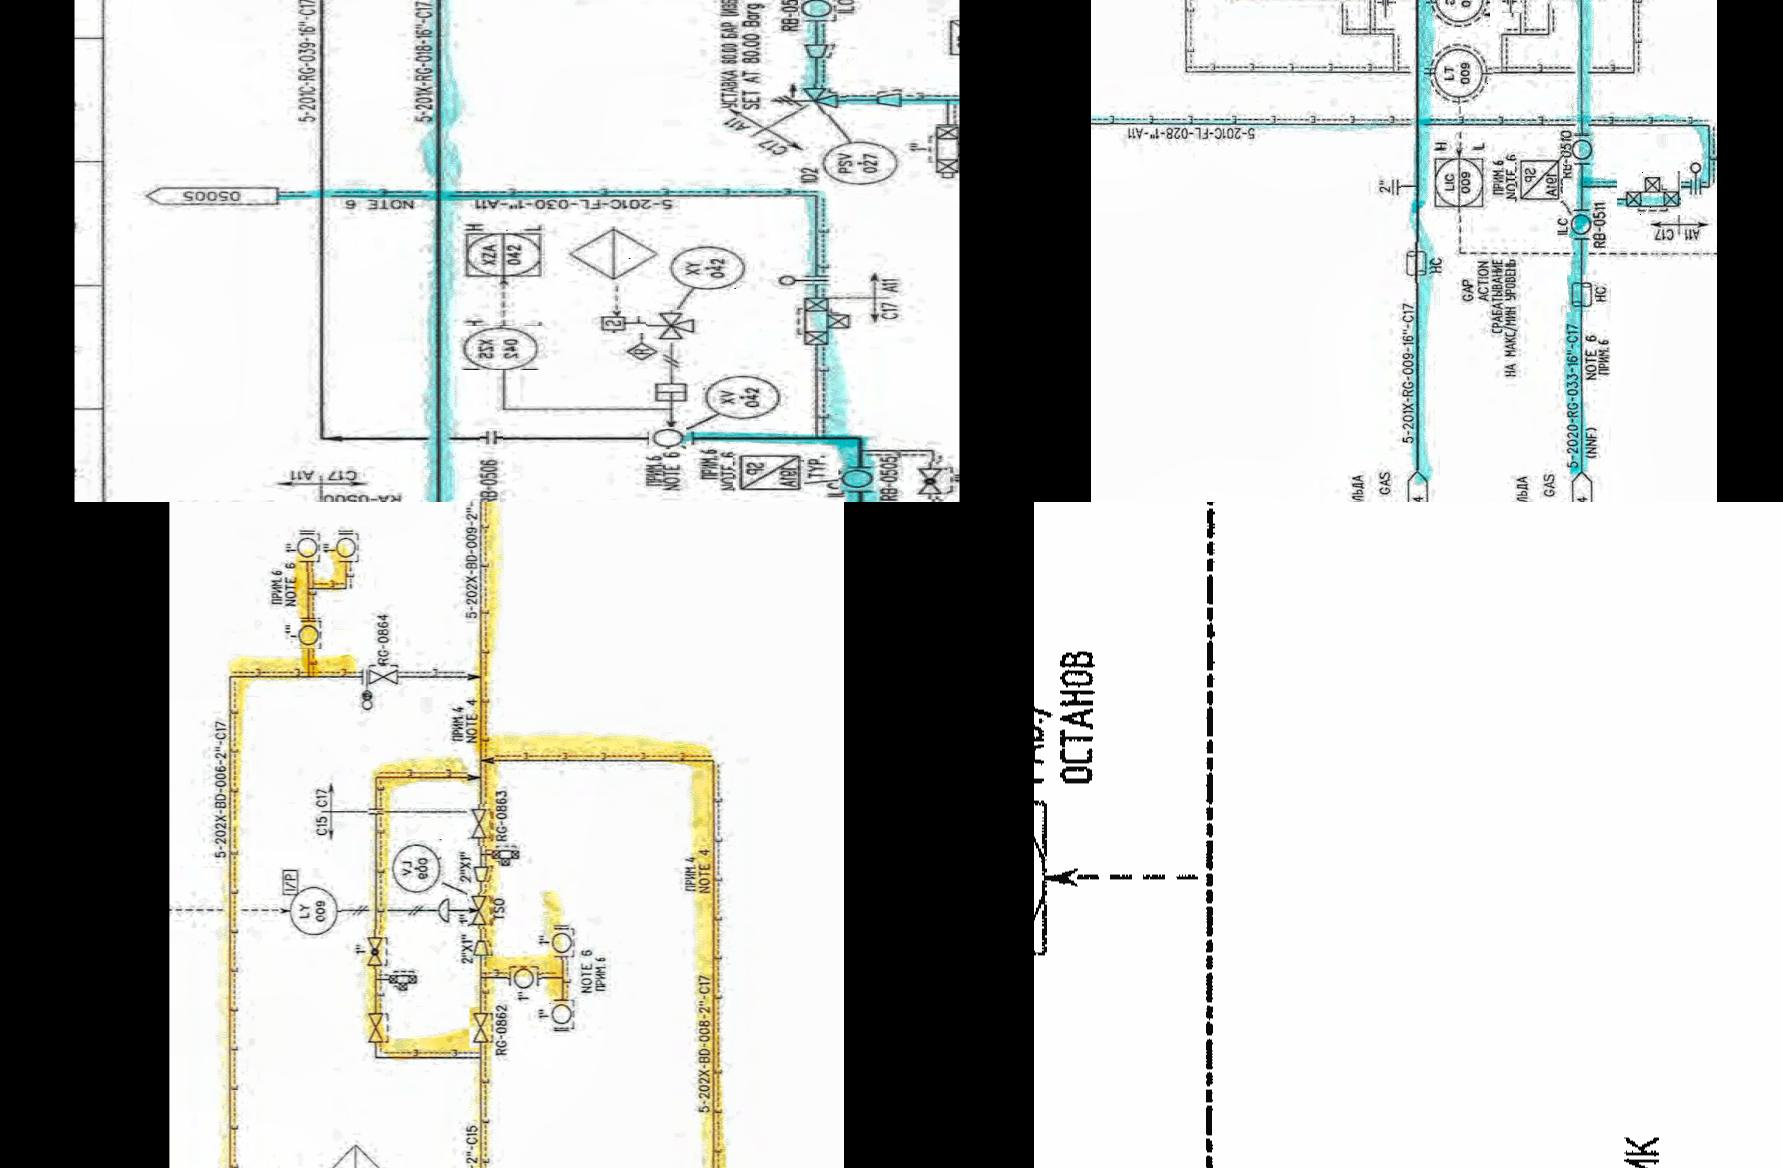2 WAY VALVE: (787, 295, 858, 351), (1617, 169, 1681, 214)
3 WAY GENERAL VALVE: (645, 308, 704, 340)
ANGLE RELIEF VALVE: (762, 82, 847, 113)
BLIND SPADE OPEN: (1683, 154, 1707, 201), (774, 270, 833, 287)
CONCENTRIC REDUCER: (798, 38, 834, 60), (873, 87, 908, 108), (469, 933, 494, 959), (469, 855, 490, 884)
DCS ACCESSIBLE: (457, 227, 551, 280), (1427, 147, 1490, 212)
DUPLEX RECEPTACLE: (1402, 240, 1432, 282), (1567, 272, 1597, 310)
END CAP: (430, 894, 456, 929)
END FLANGED: (481, 428, 506, 447), (1392, 172, 1402, 198), (1503, 0, 1524, 10), (1376, 0, 1396, 7)
FIELD INSTRUMENT: (1425, 39, 1494, 104), (666, 240, 747, 292), (817, 138, 902, 185), (282, 880, 341, 945), (455, 325, 542, 369), (704, 372, 783, 420), (392, 836, 443, 901), (292, 524, 327, 571), (1426, 0, 1490, 25), (550, 918, 581, 958), (327, 528, 361, 561), (291, 618, 327, 648), (508, 958, 542, 989), (1564, 132, 1595, 163), (547, 997, 577, 1030), (839, 467, 878, 490), (649, 426, 688, 448), (1567, 209, 1597, 237), (798, 0, 837, 17)
GATE VALVE: (361, 1005, 390, 1045), (469, 1005, 494, 1047), (468, 803, 493, 845), (468, 889, 491, 927), (368, 664, 401, 686)
GLOBE VALVE: (918, 459, 950, 498), (362, 928, 391, 967)
HARDWIRED INTERLOCK FIELD: (619, 339, 662, 361)
HARDWIRED INTERLOCK PRIMARY.: (567, 226, 665, 282), (326, 1135, 390, 1168)
SPECIAL PIPING ITEM: (735, 448, 808, 494), (1515, 153, 1563, 202)
SPEED FLOW METER: (593, 315, 649, 331)
